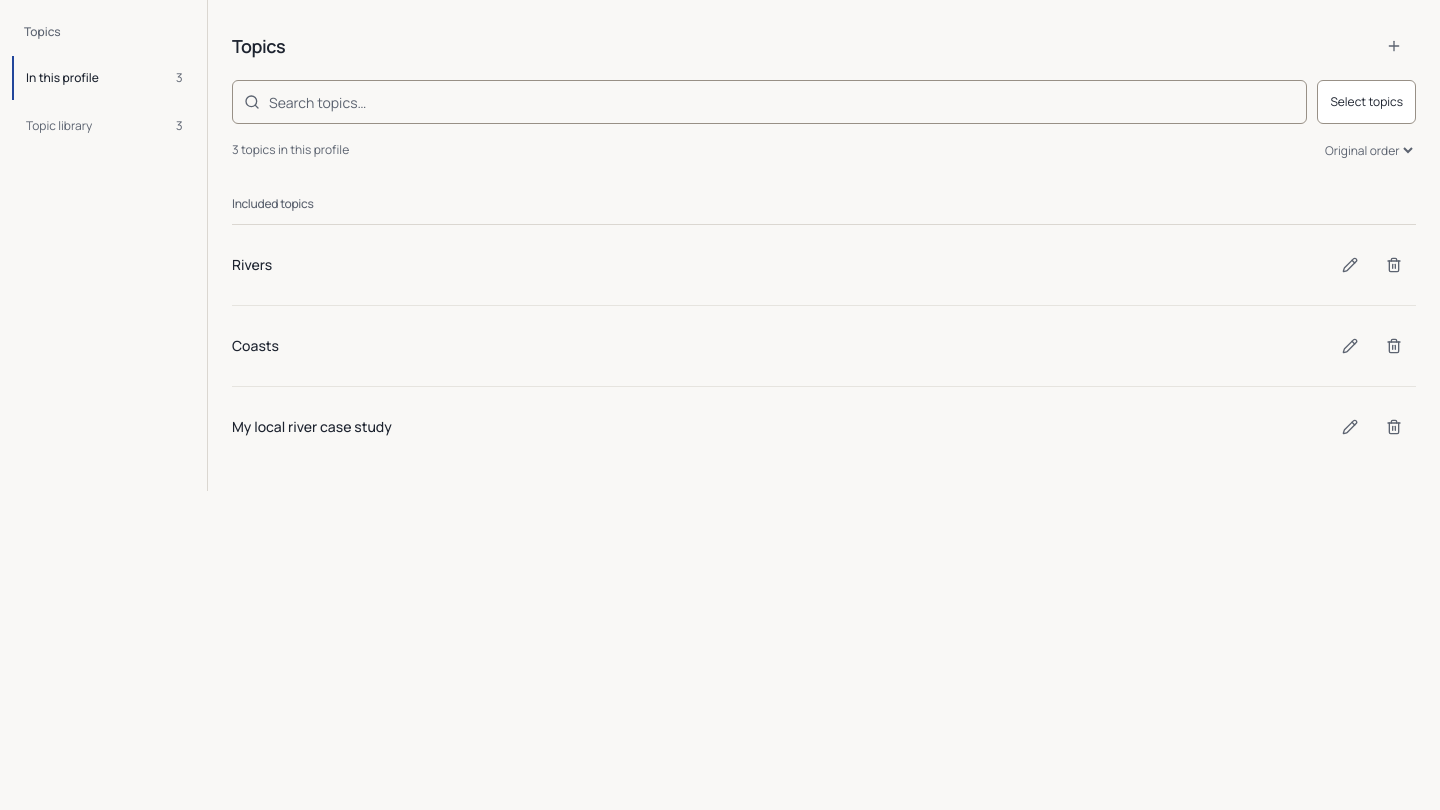
CustomProfileTopics › keeps draft additions and reports a database library failure
Step 1. Click the button named "Add topic" → [1394, 46], box [1372,24,1416,68]
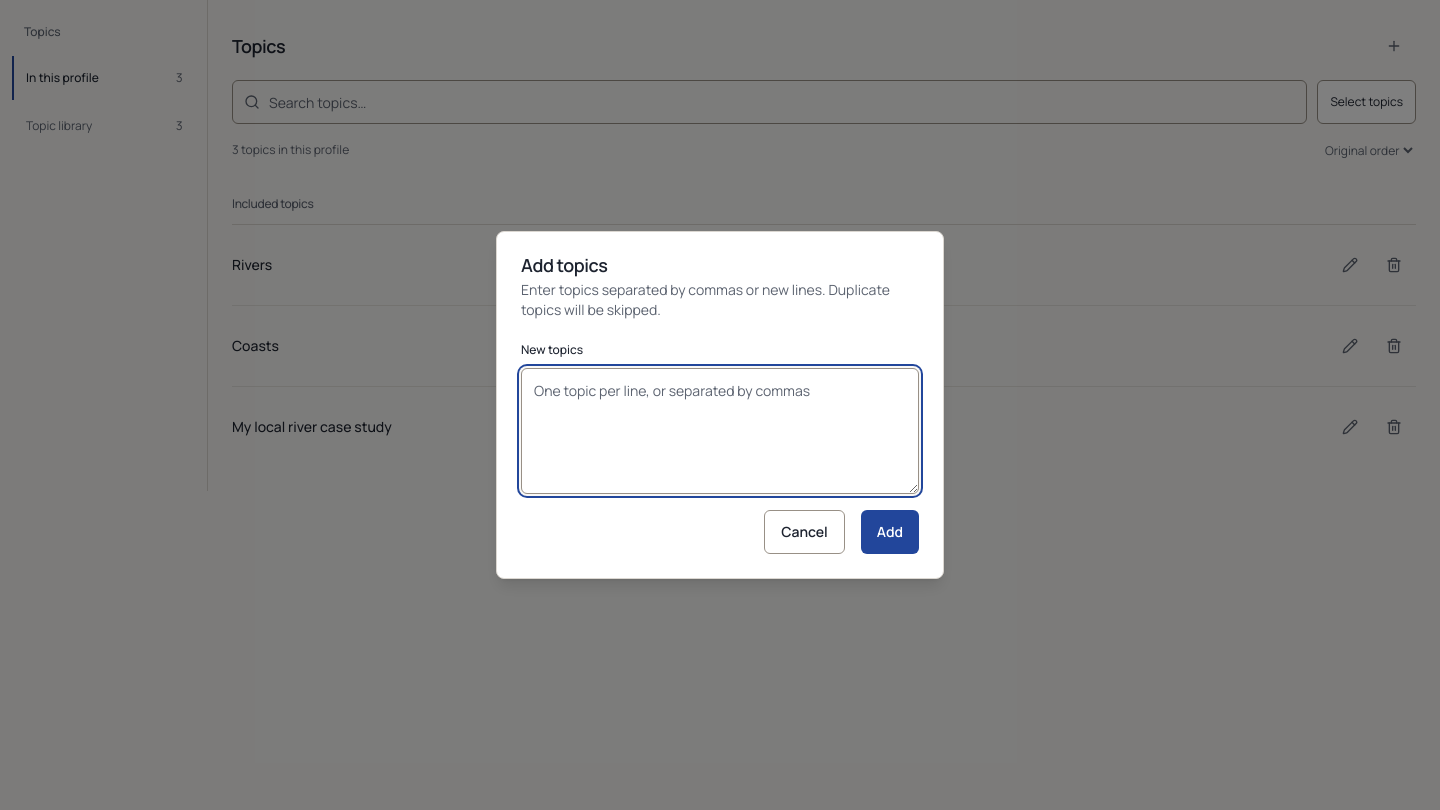
Step 2. Type "My fieldwork" into the text box labelled "New topics" → [720, 431], box [521,368,919,494]
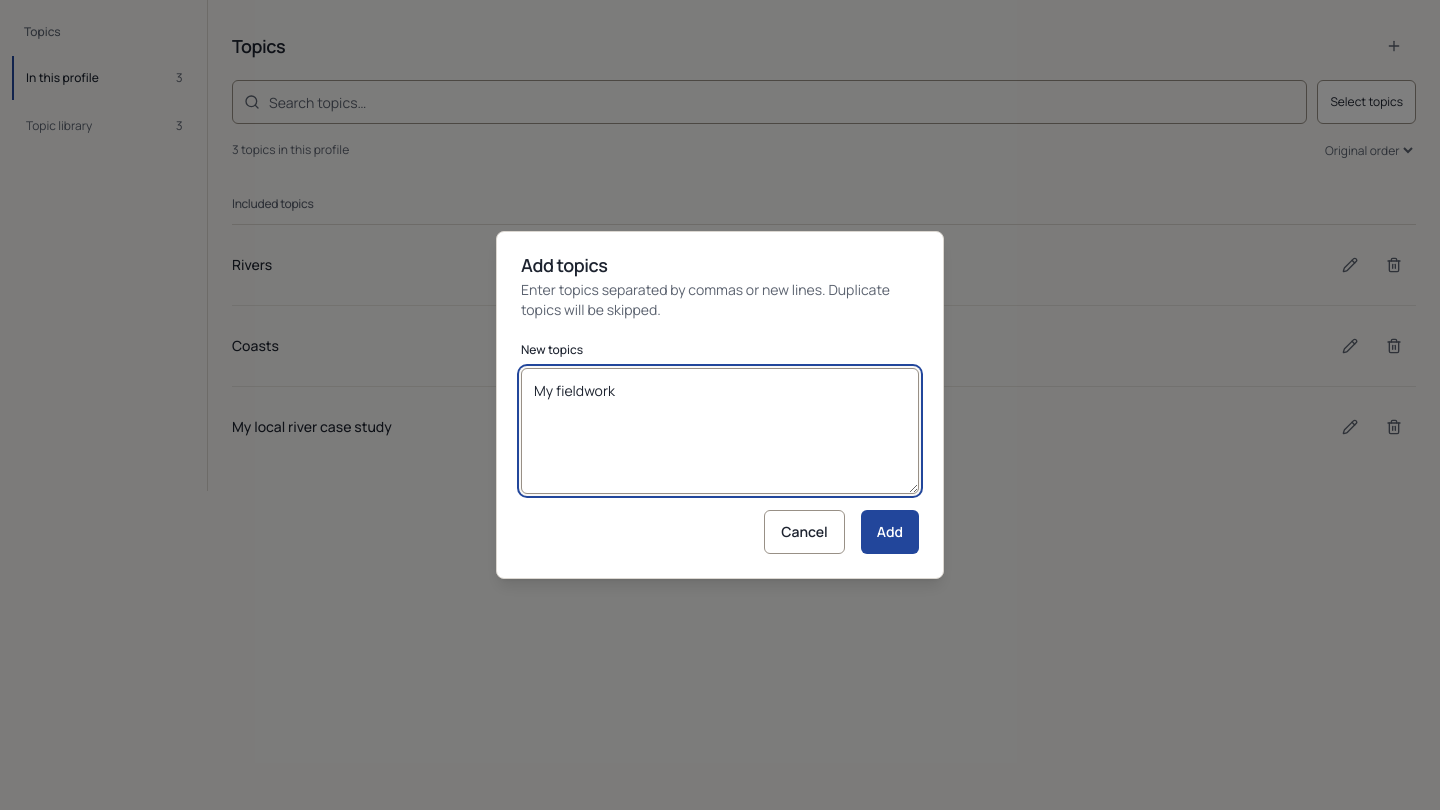
Step 3. Click the button "Add" → [890, 532], box [861,510,919,554]
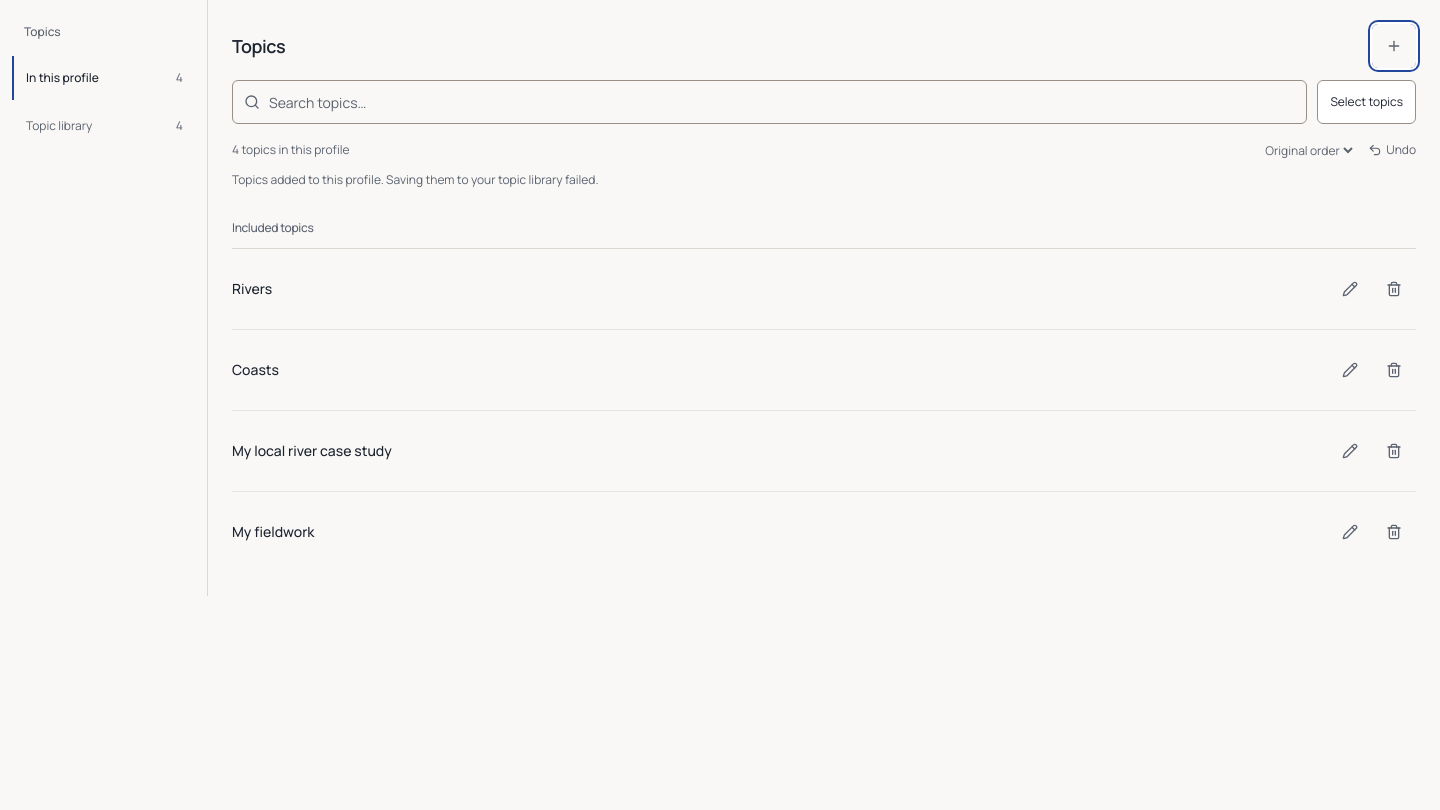
Result: the text "Topics added to this profile. Saving them to your topic library failed." is shown at [232,171,598,188]
Result: the element "My fieldwork" is shown at [232,510,1416,554]
Result: the dialog is gone
